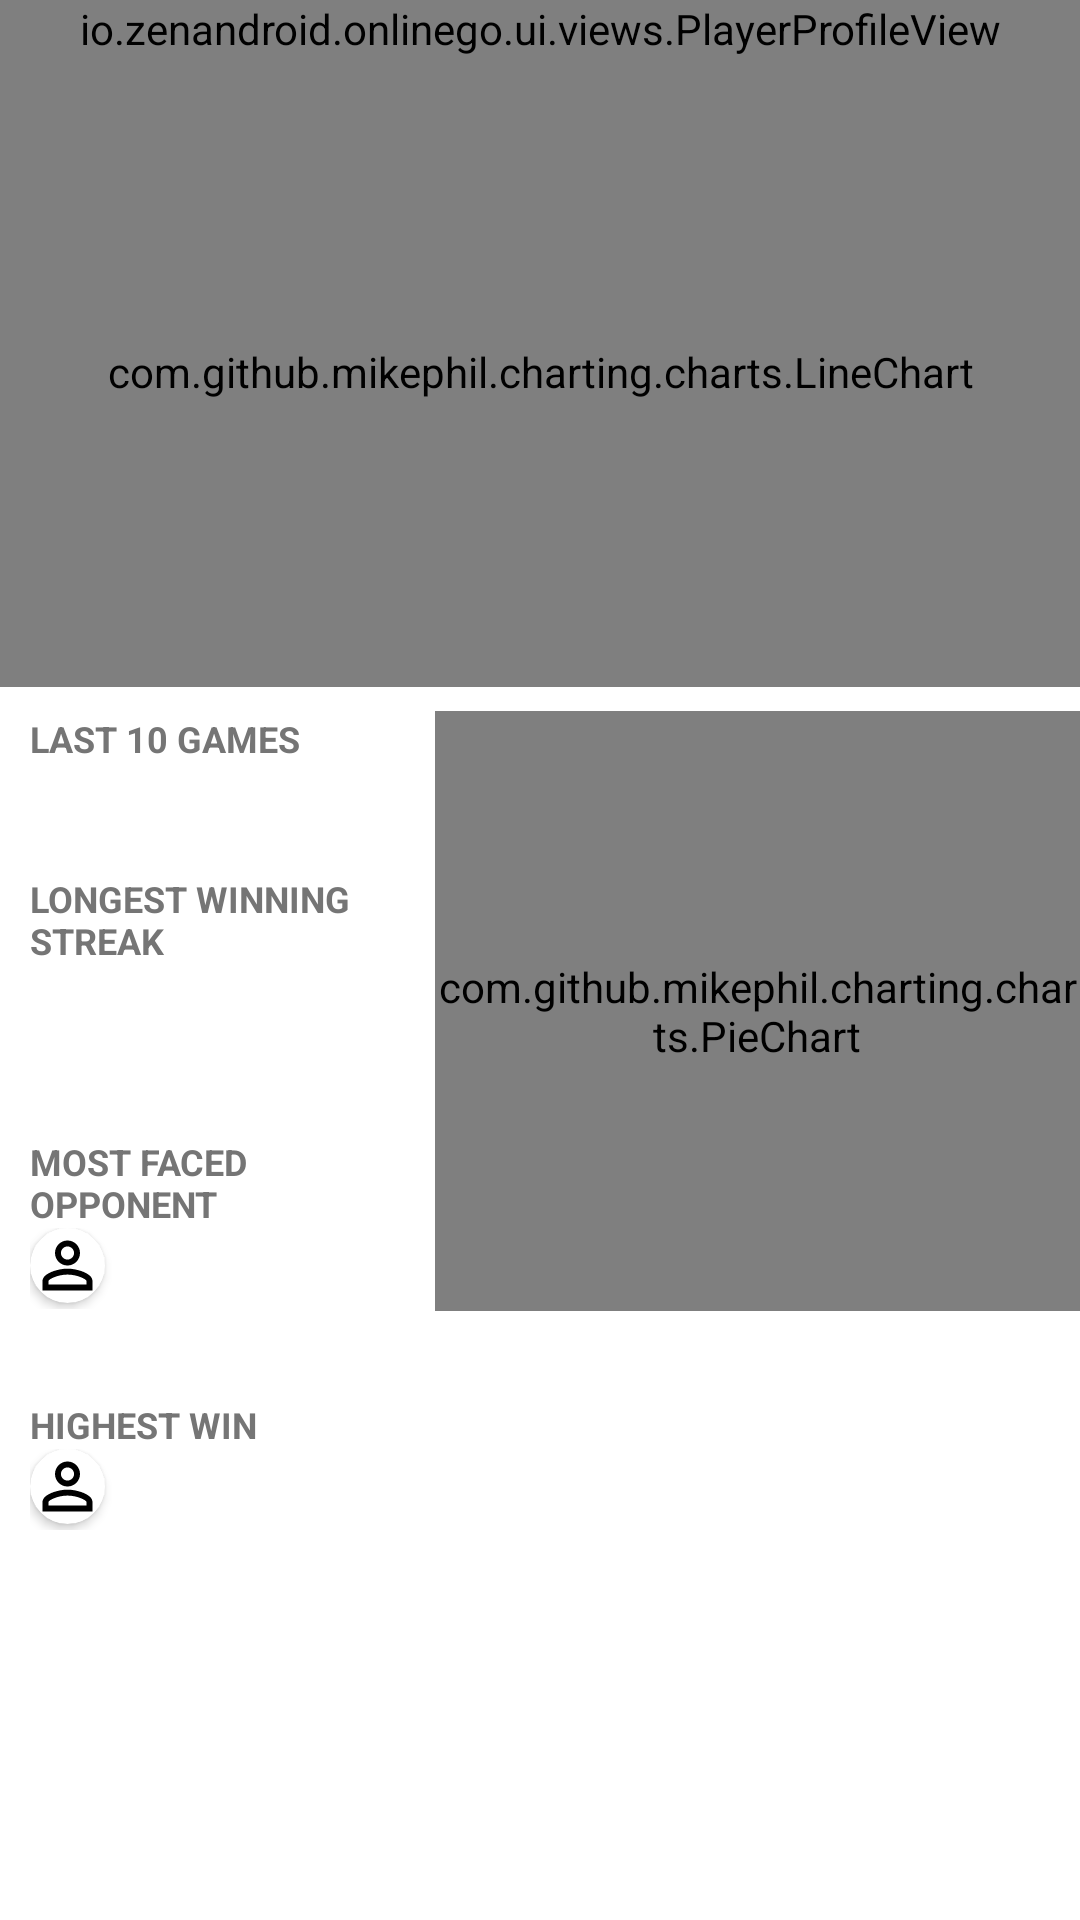

Named icons in this screenshot (1080w x 1920h) and their centers, (x=x, y=y):
person: (x=66, y=1271), (x=66, y=1492)
